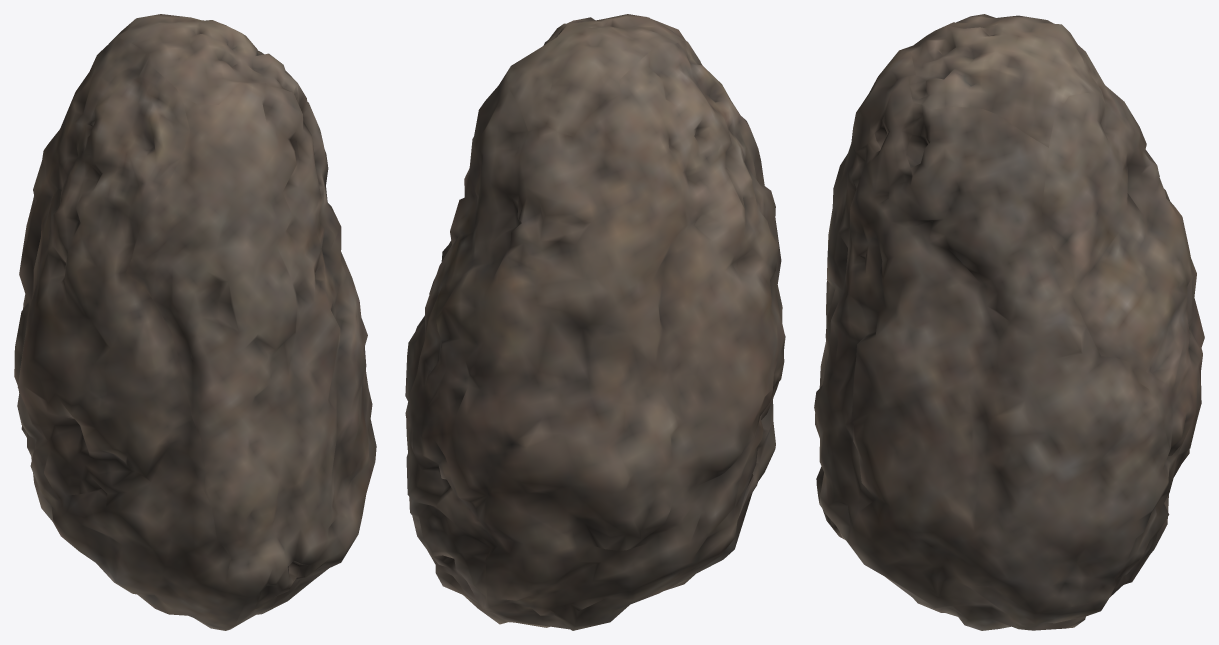
File: Stone_01_A.fbx
3 renders of one model, left to right at view 1: azimuth 30°, elevation 25°; view 2: azimuth 150°, elevation 25°; view 3: azimuth 270°, elevation 25°, orthographic. The views are drawn at different scales.
Parts seen in each view (by area): view 1: Stone_01; view 2: Stone_01; view 3: Stone_01.
Part boxes in pixels (x1,y1,x2,y2): Stone_01: [14, 14, 376, 630]; Stone_01: [405, 14, 785, 630]; Stone_01: [814, 14, 1204, 630].
Size of what is drawn, in the model's own units: 144 by 250 by 154.
